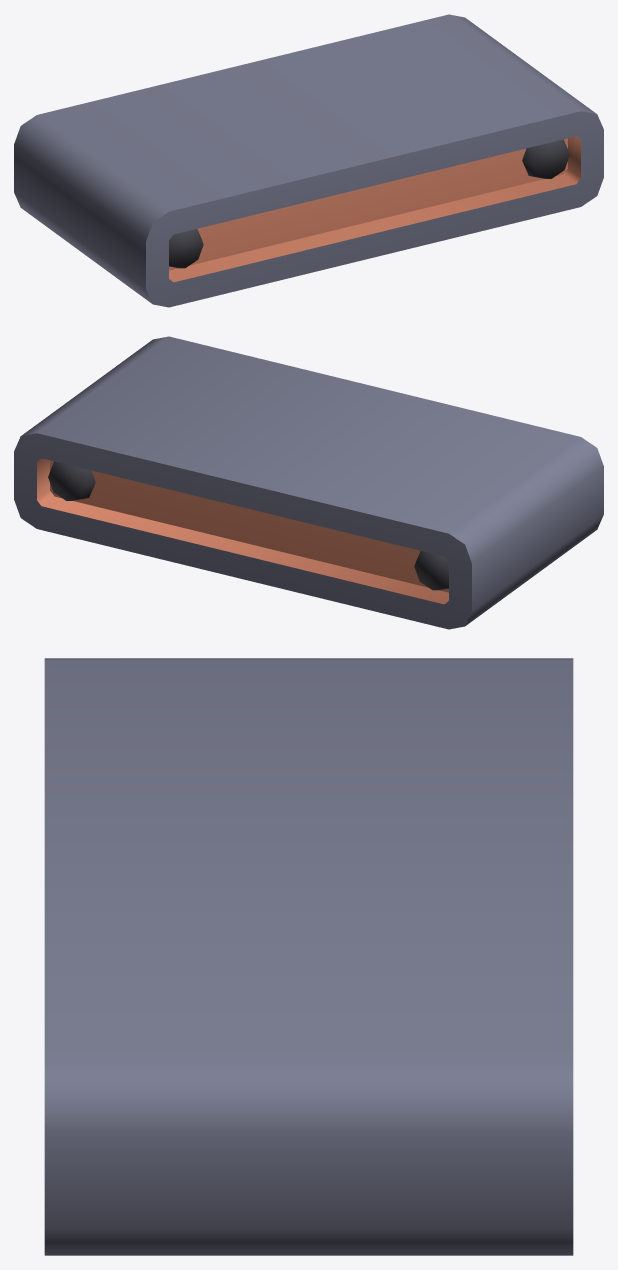
Rendered from conveyor-long.obj.
The picture shows the model from 3 angles, top to bottom: view 1: azimuth 30°, elevation 25°; view 2: azimuth 150°, elevation 25°; view 3: azimuth 270°, elevation 25°; orthographic projection. The views are drawn at different scales.
Parts seen in each view (by area): view 1: conveyor-long; view 2: conveyor-long; view 3: conveyor-long.
Part boxes in pixels (x1=…): conveyor-long: x1=14, y1=14, x2=603, y2=307; conveyor-long: x1=14, y1=336, x2=603, y2=629; conveyor-long: x1=44, y1=658, x2=573, y2=1255.
Size of the model in its own units: 2 by 0.4 by 1.
